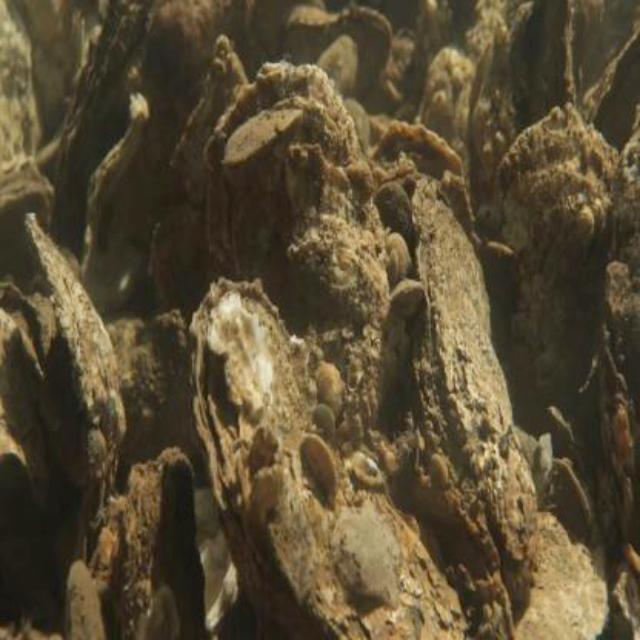Oyster-Closed: (207, 61, 393, 335), (410, 176, 537, 572), (188, 279, 304, 544), (27, 223, 119, 429), (115, 448, 211, 640), (82, 112, 157, 311), (176, 39, 249, 210), (509, 513, 607, 640), (283, 5, 393, 98), (227, 107, 300, 194), (0, 180, 52, 288)
